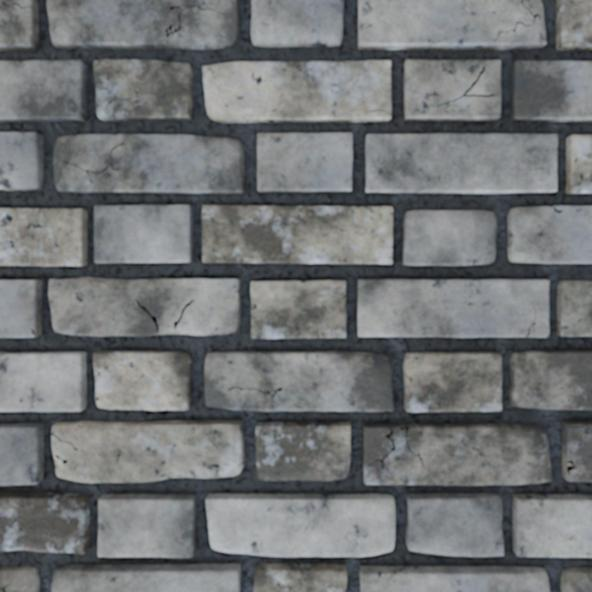brick: (206, 494, 394, 555), (52, 421, 243, 481), (203, 61, 390, 122), (363, 424, 550, 484), (54, 134, 243, 193), (49, 277, 240, 335), (205, 351, 392, 410), (366, 134, 556, 192), (202, 205, 392, 263), (358, 279, 548, 336), (47, 0, 239, 48), (358, 0, 545, 48), (98, 494, 195, 556), (406, 493, 502, 555), (94, 60, 192, 120), (404, 60, 500, 120), (404, 352, 501, 411), (93, 351, 191, 409), (94, 205, 191, 262), (258, 133, 351, 191), (251, 280, 345, 337), (0, 493, 88, 553), (256, 423, 349, 479), (0, 60, 86, 120), (52, 564, 239, 591), (403, 210, 495, 264), (0, 352, 85, 410), (0, 208, 86, 265), (511, 60, 591, 121), (513, 495, 591, 556), (360, 566, 548, 591), (510, 350, 591, 408), (508, 206, 591, 262), (251, 0, 342, 46), (0, 424, 43, 484), (254, 563, 345, 591), (0, 132, 42, 189), (0, 280, 41, 336), (557, 280, 591, 335), (0, 0, 37, 50), (556, 0, 591, 49), (562, 421, 591, 480), (566, 135, 591, 193), (0, 566, 38, 591), (561, 567, 591, 591)
crack: (51, 432, 78, 451), (526, 301, 537, 337), (0, 1, 30, 9), (54, 453, 68, 464), (369, 108, 390, 114), (549, 205, 563, 214), (0, 581, 12, 591), (29, 327, 36, 337)
